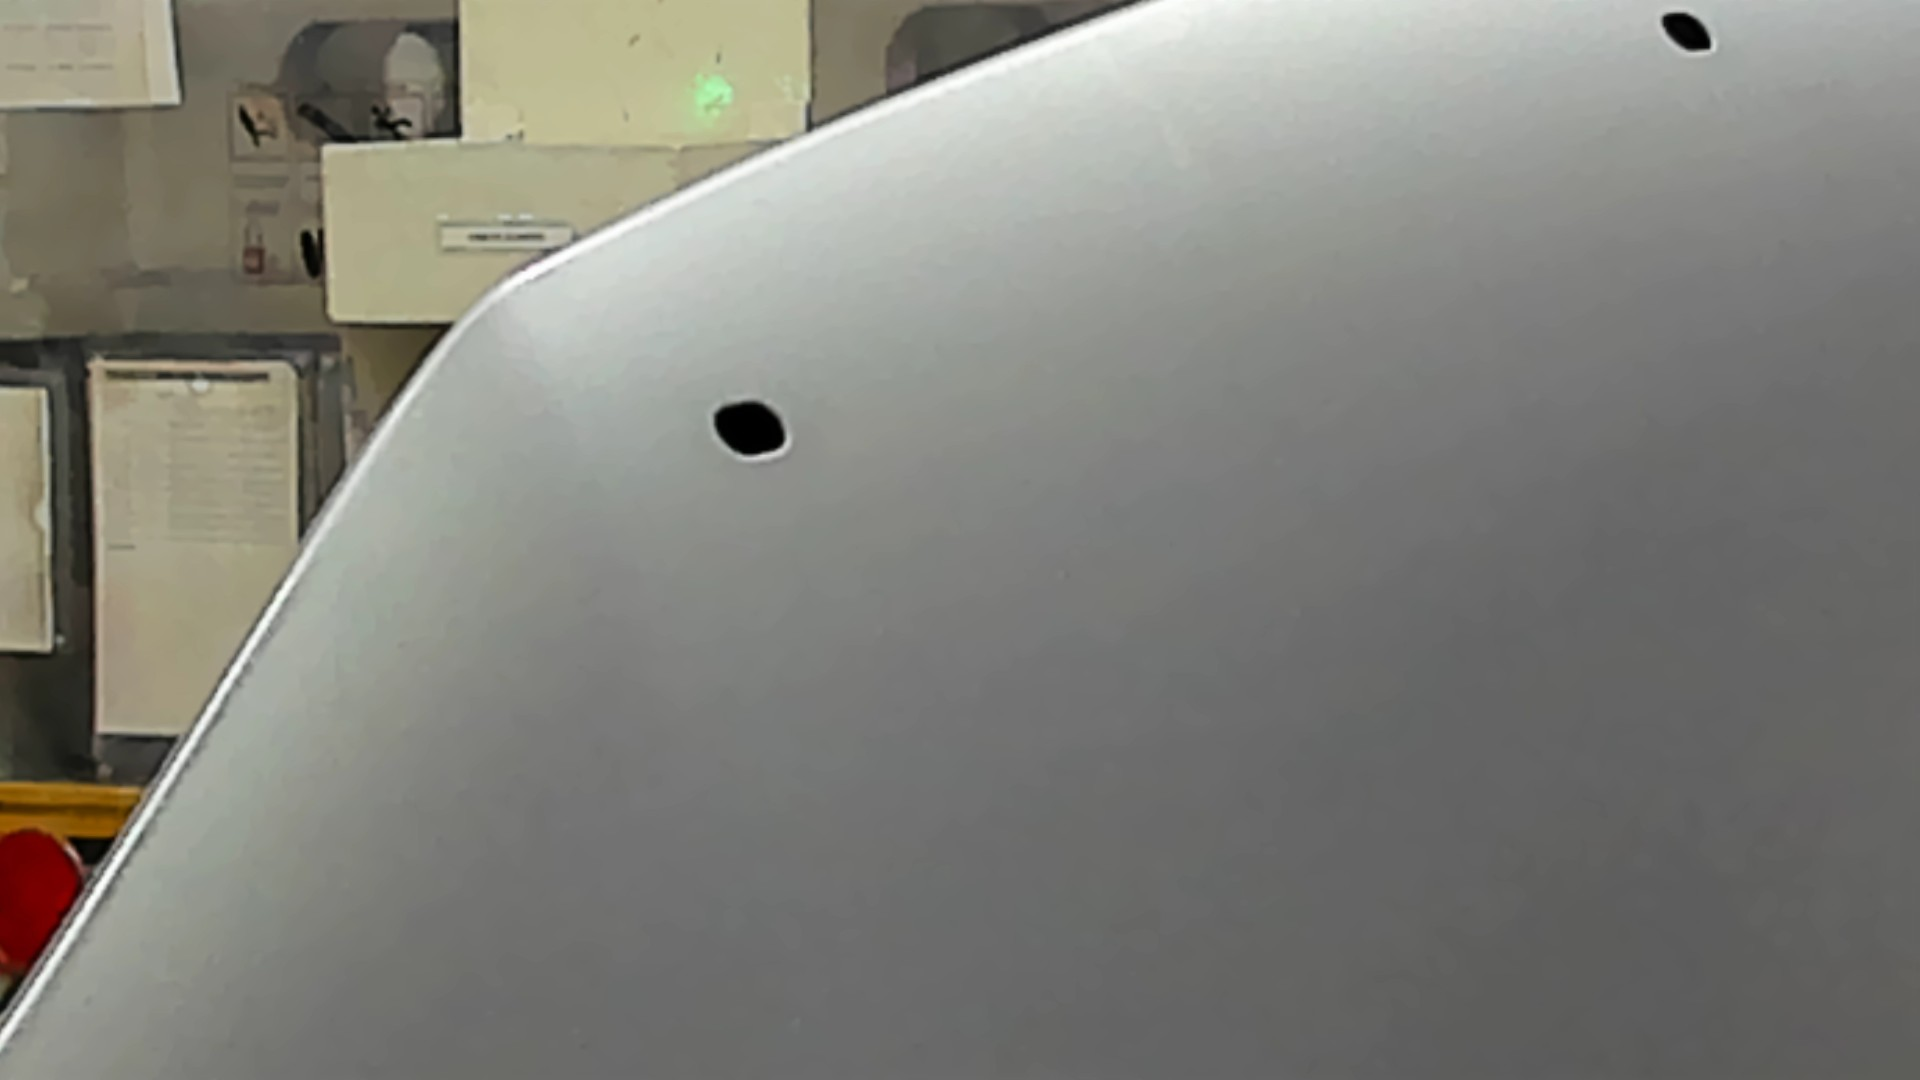chico: (686, 388, 818, 472), (1643, 1, 1731, 70)
